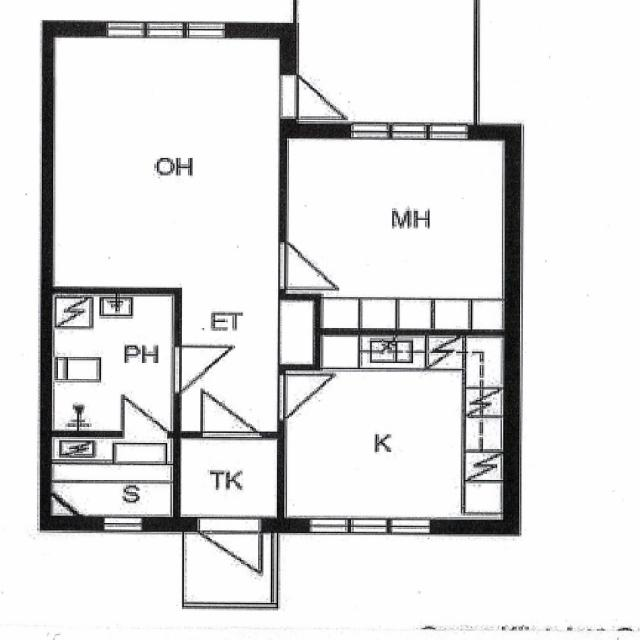door: (197, 519, 261, 599), (202, 373, 259, 438), (278, 240, 336, 290), (280, 75, 342, 118), (172, 346, 228, 392), (278, 375, 330, 420), (124, 388, 166, 438)
